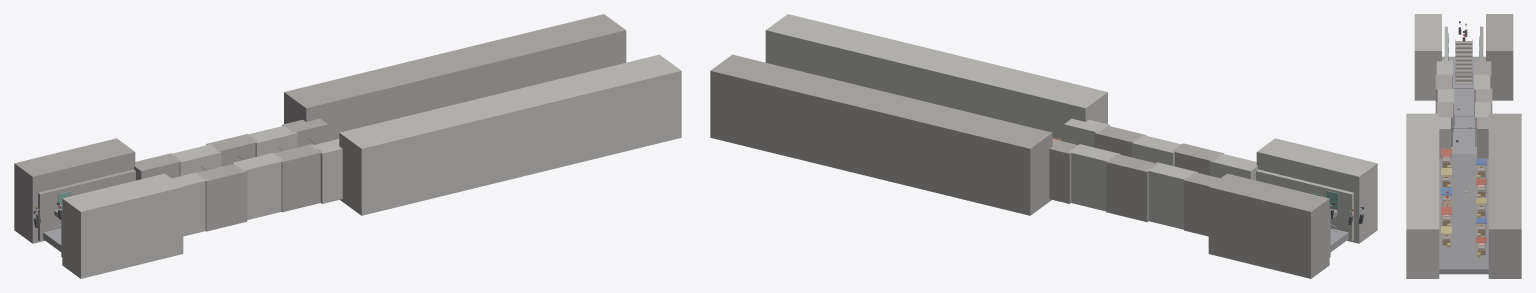
The picture shows the model from 3 angles, left to right: view 1: azimuth 30°, elevation 25°; view 2: azimuth 150°, elevation 25°; view 3: azimuth 270°, elevation 25°; orthographic projection. The views are drawn at different scales.
Parts seen in each view (by area): view 1: S03_bldL, S03_bldR, S01_bldL, S01_bldR, S02_wallL1, S02_wallL3, S02_wallL2, S01_wallR, S02_wallL0, S02_wallL4, S02_wallR1, S02_wallR3 (+3 smaller); view 2: S03_bldR, S03_bldL, S01_bldR, S01_bldL, S02_wallR2, S02_wallR3, S02_wallR1, S01_wallL, S02_wallR0, S02_wallR4, S02_wallL2, S02_wallL1 (+3 smaller); view 3: S03_bldL, S03_bldR, S03_road, S01_bldR, S01_bldL, S02_ground, S02_wallR4, S02_wallL4, S01_base, S02_wallL1, S02_wallL3, S02_wallR3 (+20 smaller).
Boxes of the visible parts, x1,y1,x2,y2 form: S03_bldL: [339, 54, 681, 215]; S03_bldR: [284, 14, 626, 141]; S01_bldL: [62, 173, 183, 278]; S01_bldR: [14, 138, 135, 243]; S02_wallL1: [195, 164, 247, 231]; S02_wallL3: [272, 144, 322, 212]; S02_wallL2: [232, 153, 283, 219]; S01_wallR: [38, 169, 135, 241]; S02_wallL0: [172, 172, 206, 236]; S02_wallL4: [311, 139, 342, 203]; S02_wallR1: [170, 144, 221, 176]; S02_wallR3: [248, 125, 297, 156]; S03_bldR: [710, 54, 1052, 215]; S03_bldL: [765, 14, 1107, 141]; S01_bldR: [1208, 173, 1329, 278]; S01_bldL: [1256, 138, 1377, 243]; S02_wallR2: [1106, 154, 1157, 221]; S02_wallR3: [1069, 144, 1120, 211]; S02_wallR1: [1146, 162, 1198, 229]; S01_wallL: [1256, 169, 1353, 241]; S02_wallR0: [1184, 172, 1219, 236]; S02_wallR4: [1049, 139, 1077, 203]; S02_wallL2: [1132, 135, 1180, 166]; S02_wallL1: [1172, 143, 1223, 175]; S03_bldL: [1406, 113, 1439, 278]; S03_bldR: [1488, 113, 1521, 278]; S03_road: [1439, 153, 1488, 274]; S01_bldR: [1486, 14, 1513, 100]; S01_bldL: [1414, 14, 1441, 100]; S02_ground: [1451, 89, 1476, 153]; S02_wallR4: [1477, 117, 1488, 158]; S02_wallL4: [1439, 117, 1450, 158]; S01_base: [1442, 56, 1485, 88]; S02_wallL1: [1435, 74, 1451, 113]; S02_wallL3: [1436, 102, 1452, 146]; S02_wallR3: [1475, 102, 1491, 146].
Bounding box in the file's own units: 95.61 × 10 × 21.
